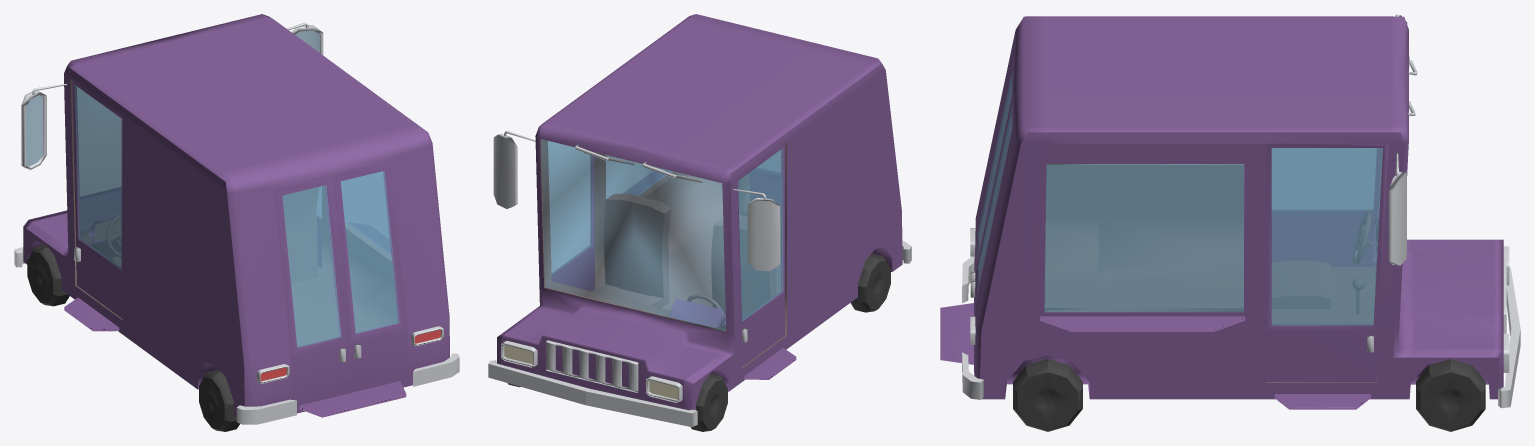
The model's file is KFB_CVP1_transporterWindow.glb.
The picture shows the model from 3 angles, left to right: view 1: azimuth 30°, elevation 25°; view 2: azimuth 150°, elevation 25°; view 3: azimuth 270°, elevation 25°; orthographic projection. The views are drawn at different scales.
Parts seen in each view (by area): view 1: CarMesh, Interior, Window.4, Window.2, Window.3, DoorBackL, DoorBackR, DoorL, SeatR, WindowShutter, BumperRear, Hood (+7 smaller); view 2: CarMesh, WIndowFront.1, Interior, Hood, SeatR, Window, Window.2, BumperFront, DoorL, SeatL, MirrorCase, Grille (+10 smaller); view 3: CarMesh, Interior, WindowShutter, Window, Hood, DoorR, Window.2, DoorL, WheelRR, WheelFR, StepW, SeatL (+9 smaller).
Boxes of the visible parts, box(x1,y1,x2,y2) form: CarMesh: box(23, 14, 449, 417); Interior: box(70, 79, 397, 346); Window.4: box(282, 185, 341, 347); Window.2: box(74, 84, 121, 270); Window.3: box(340, 171, 399, 333); DoorBackL: box(274, 175, 349, 395); DoorBackR: box(333, 161, 408, 381); DoorL: box(72, 80, 122, 318); SeatR: box(282, 187, 318, 283); WindowShutter: box(341, 171, 390, 254); BumperRear: box(236, 353, 459, 424); Hood: box(28, 187, 120, 247); CarMesh: box(497, 14, 902, 410); WIndowFront.1: box(541, 139, 726, 331); Interior: box(540, 139, 786, 368); Hood: box(501, 310, 719, 404); SeatR: box(592, 193, 671, 308); Window: box(548, 141, 592, 274); Window.2: box(738, 148, 783, 321); BumperFront: box(488, 360, 697, 427); DoorL: box(737, 144, 785, 367); SeatL: box(711, 220, 775, 318); MirrorCase: box(747, 198, 780, 271); Grille: box(546, 340, 638, 392); CarMesh: box(974, 16, 1503, 399); Interior: box(982, 97, 1388, 382); WindowShutter: box(1044, 164, 1244, 312); Window: box(1271, 148, 1382, 325); Hood: box(1414, 239, 1503, 349); DoorR: box(1266, 143, 1388, 381); Window.2: box(1272, 148, 1376, 210); DoorL: box(1272, 148, 1381, 266); WheelRR: box(1013, 359, 1082, 431); WheelFR: box(1416, 359, 1485, 431); StepW: box(1040, 316, 1245, 331); SeatL: box(1272, 261, 1330, 308).
Bounding box in the file's own units: 2.93 × 2.39 × 4.17.
